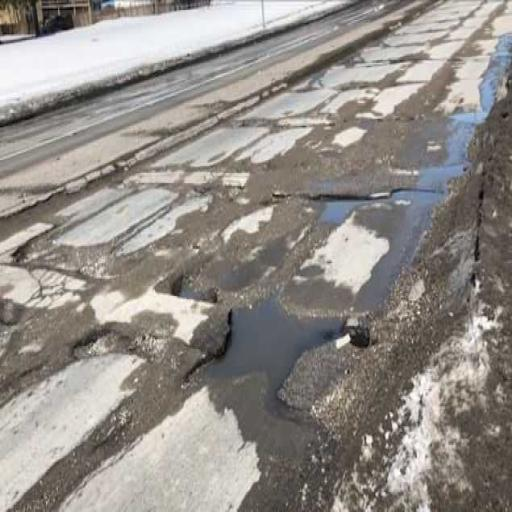pothole: (4, 126, 446, 474)
